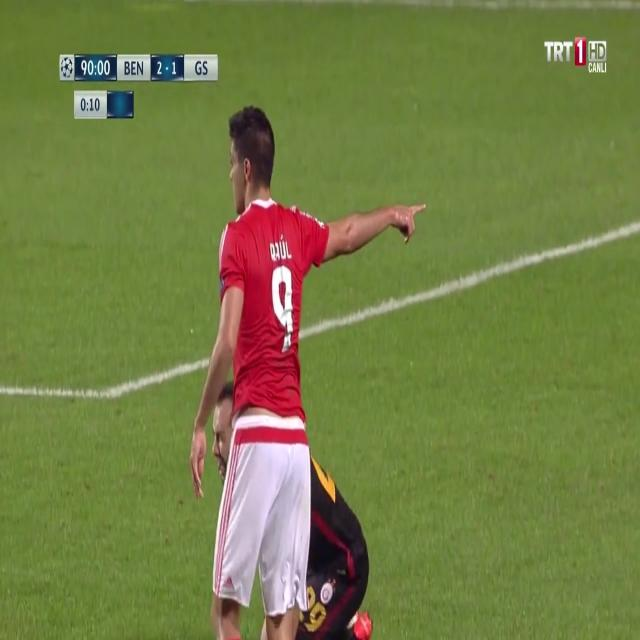Player: (187, 104, 431, 640), (208, 388, 374, 640)
